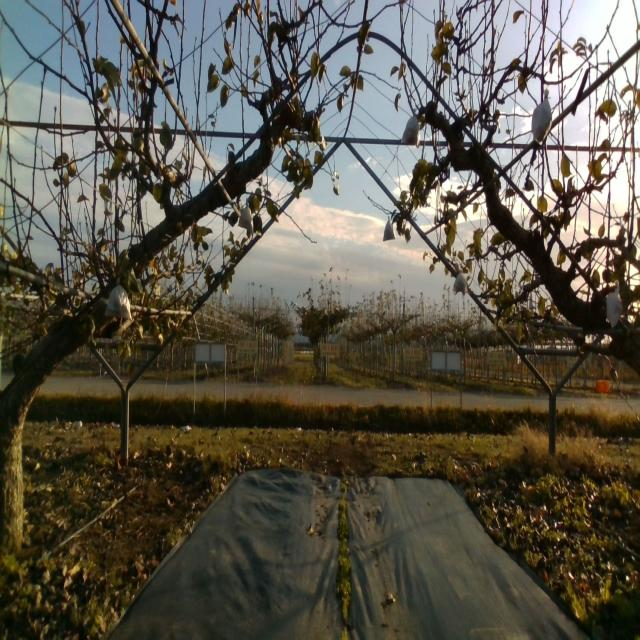pearbags: (104, 278, 133, 321), (532, 89, 552, 143), (401, 108, 422, 146), (607, 287, 623, 328), (238, 199, 253, 228), (452, 271, 469, 294), (383, 215, 395, 241)
